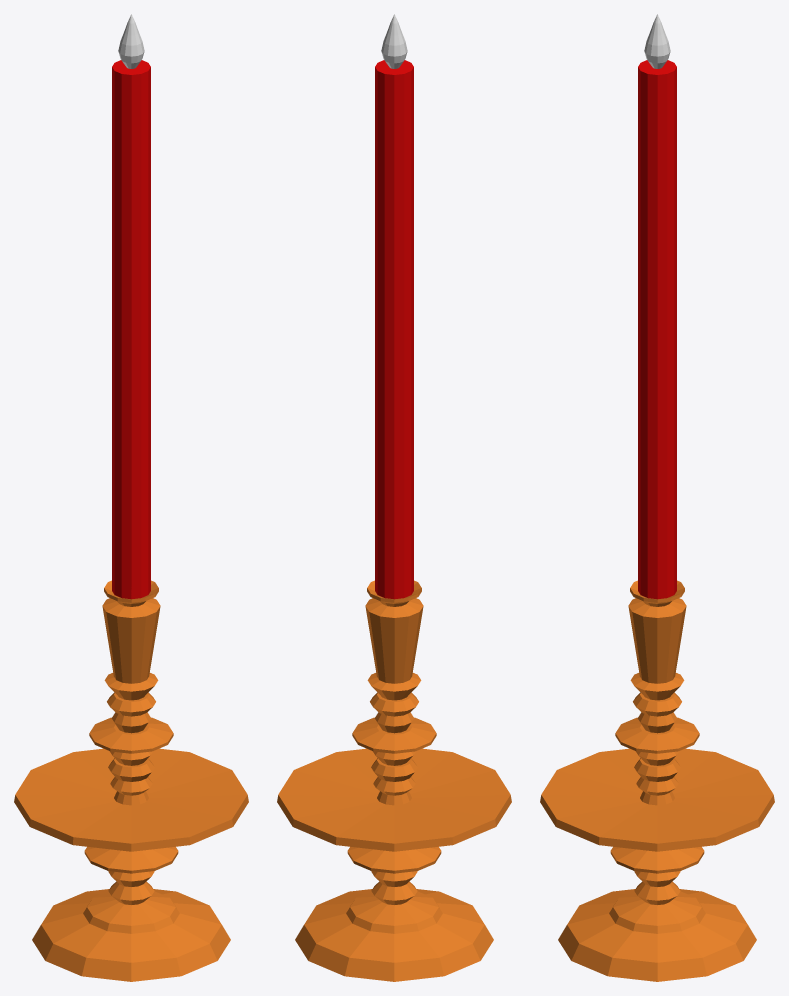
File: candle.fbx
The picture shows the model from 3 angles, left to right: view 1: azimuth 30°, elevation 25°; view 2: azimuth 150°, elevation 25°; view 3: azimuth 270°, elevation 25°; orthographic projection.
Visible parts, largest first — view 1: fire; view 2: fire; view 3: fire.
Boxes of the visible parts, box(x1,y1,x2,y2) form: fire: box(14, 14, 248, 981); fire: box(277, 14, 511, 981); fire: box(540, 14, 774, 981).
Size of the model in its own units: 71.45 by 311 by 71.45.
